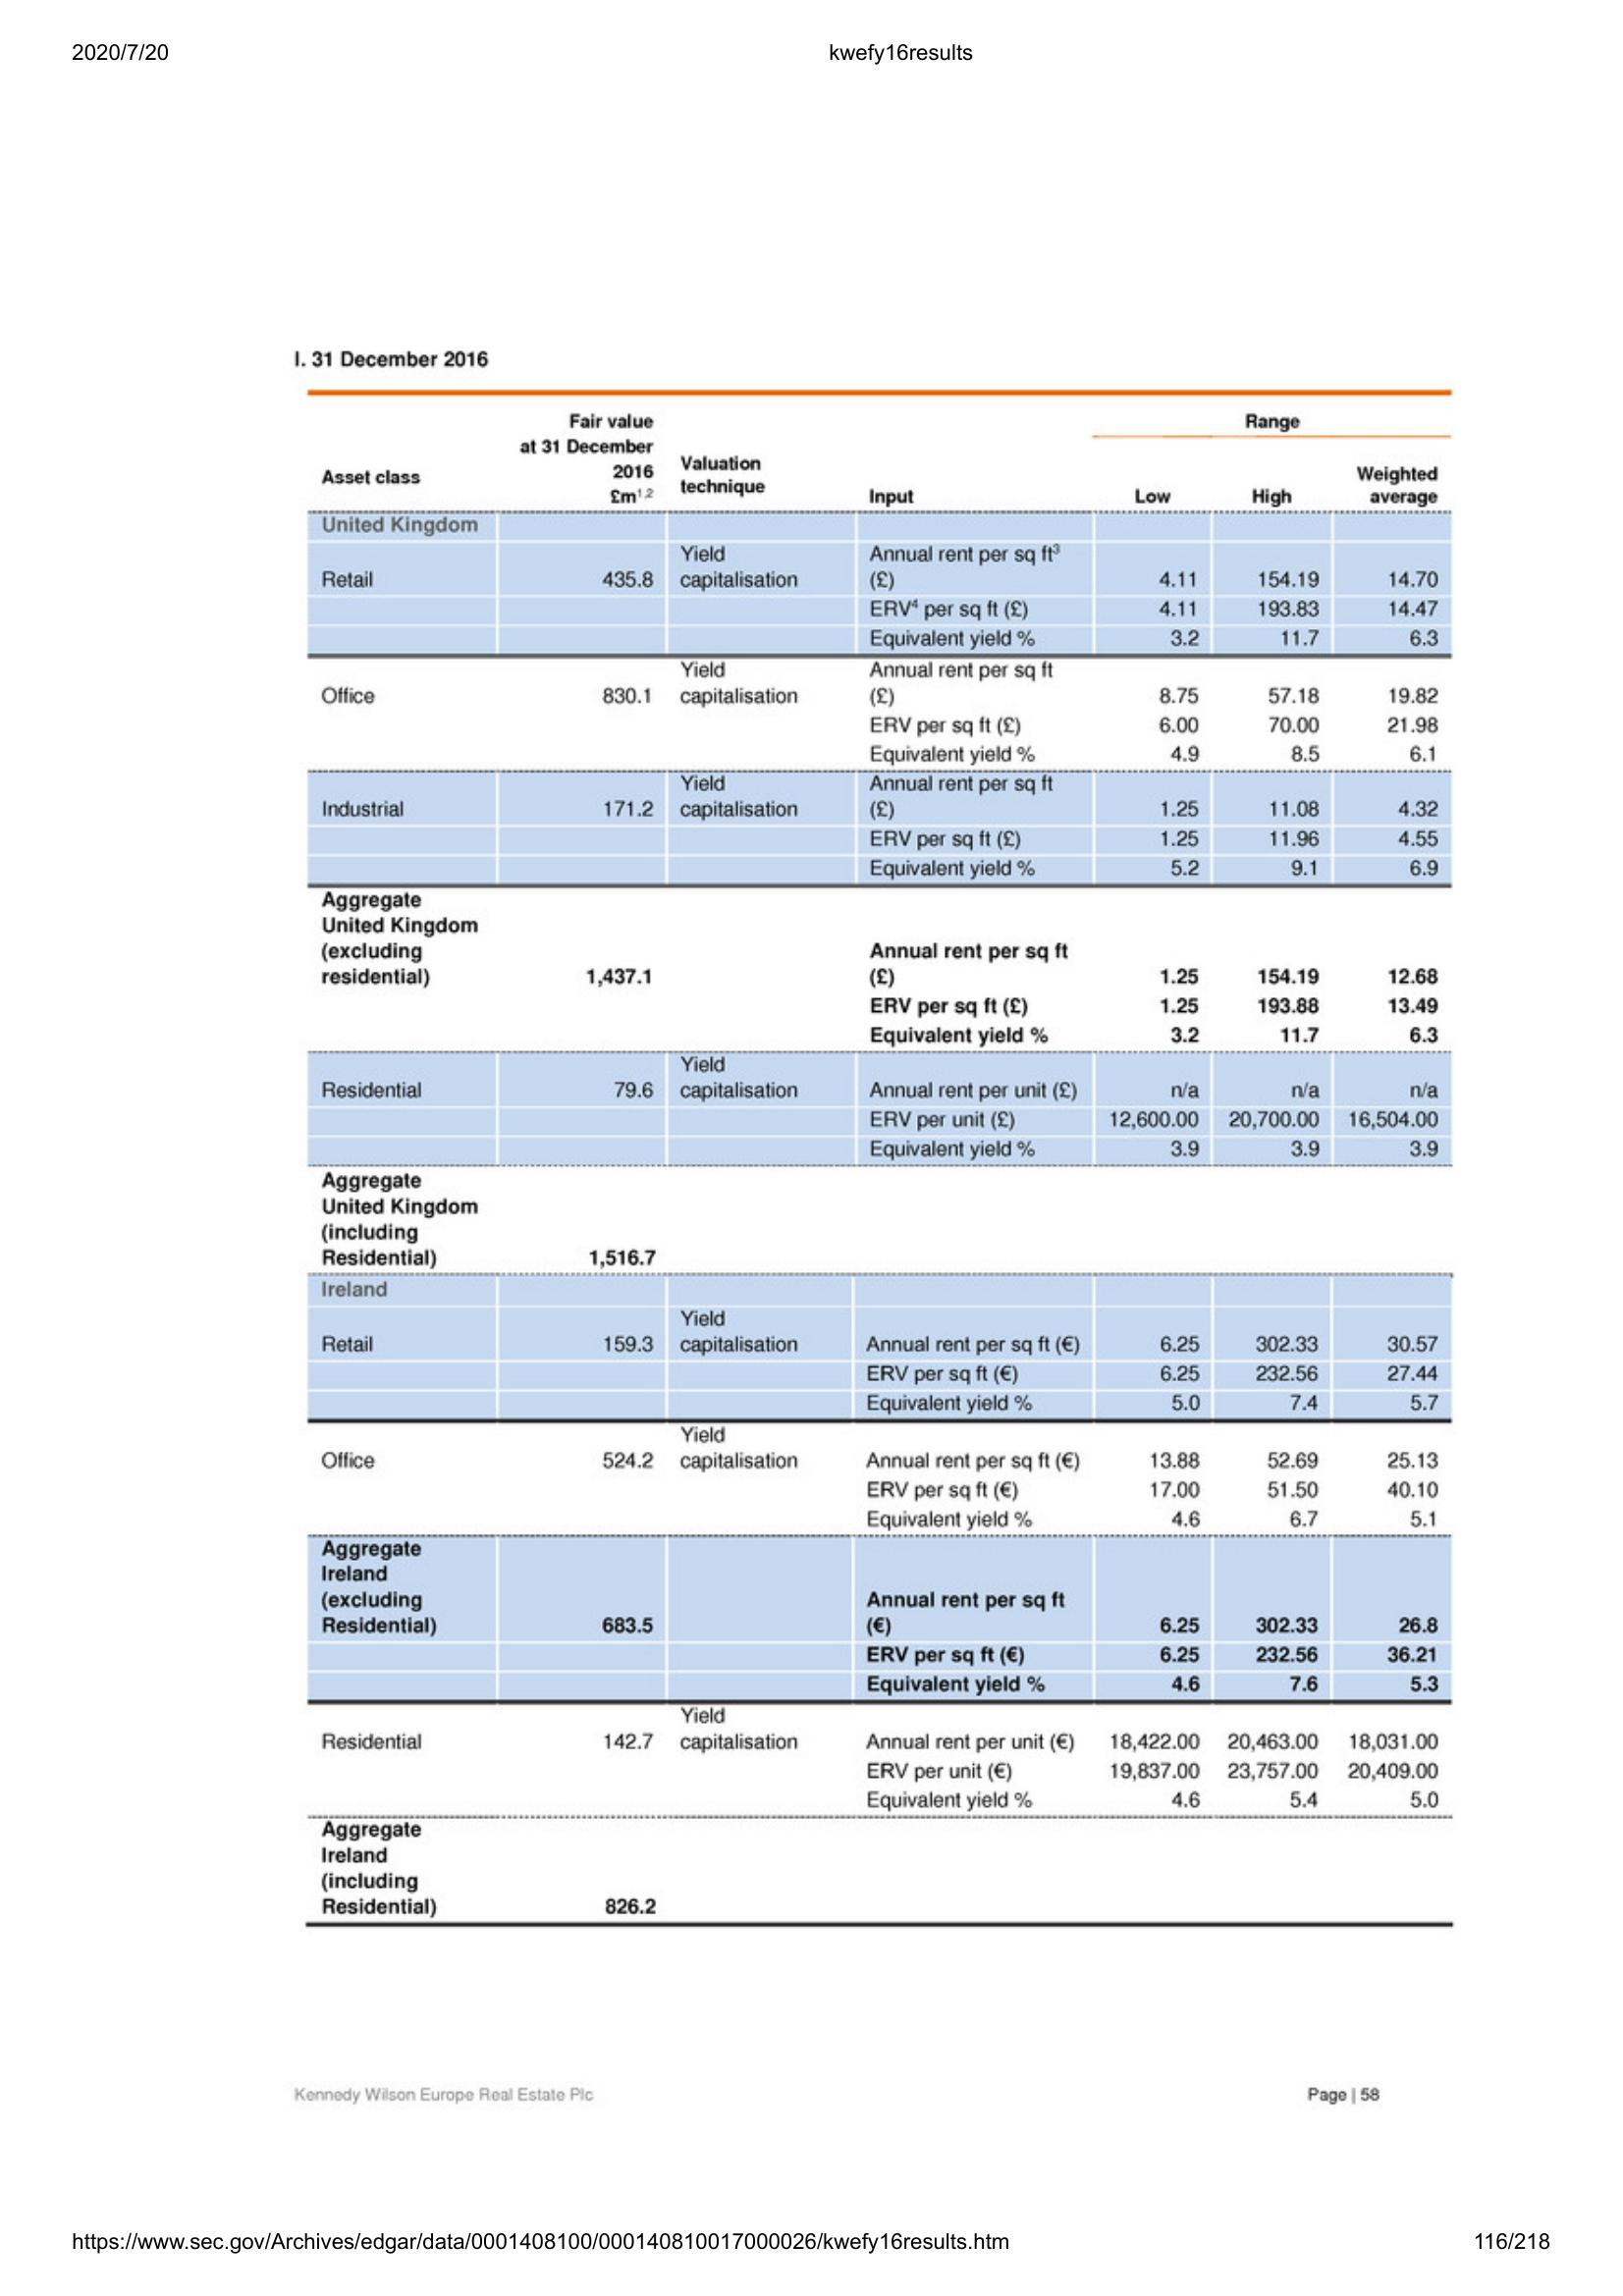table: (304, 381, 1465, 1934)
